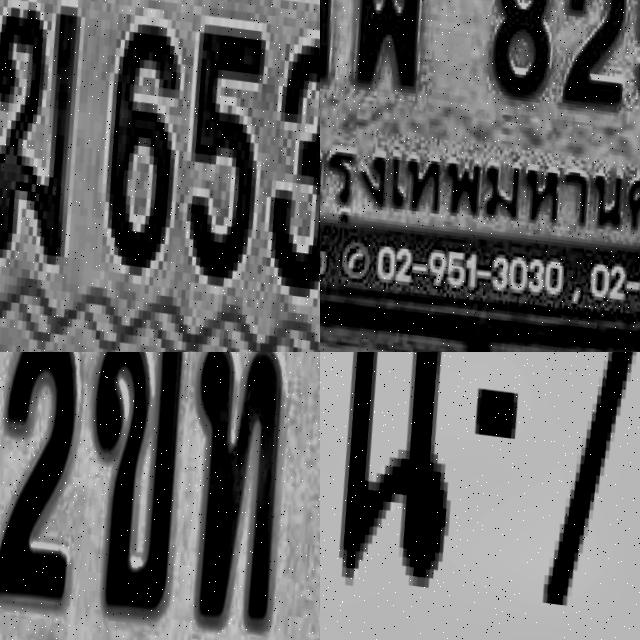license-plate: (0, 0, 320, 352), (320, 0, 640, 339), (0, 352, 320, 640), (320, 352, 640, 640)
